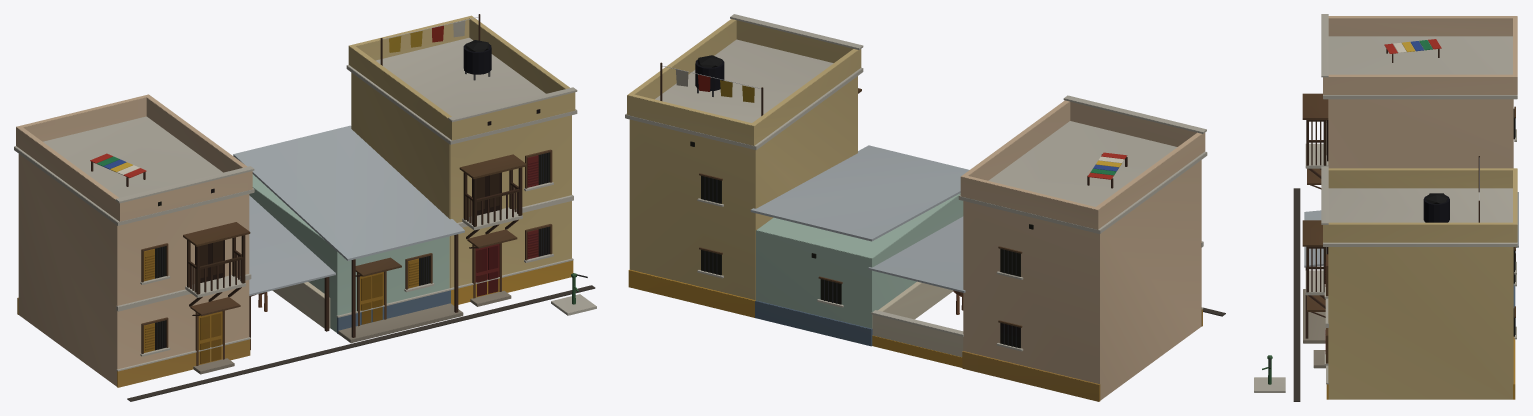
File: abadi_row_c.glb
3 views of the same model, side by side, from view 1: azimuth 30°, elevation 25°; view 2: azimuth 150°, elevation 25°; view 3: azimuth 270°, elevation 25° (orthographic). The views are drawn at different scales.
Parts seen in each view (by area): view 1: hb_main, hb_tin; view 2: hb_main, hb_tin; view 3: hb_main, hb_tin.
Part boxes in pixels (<box>): hb_main: <box>14,14,596,401</box>; hb_tin: <box>233,125,464,295</box>; hb_main: <box>625,14,1225,401</box>; hb_tin: <box>750,145,969,292</box>; hb_main: <box>1254,14,1517,401</box>; hb_tin: <box>1304,192,1518,267</box>.
Bounding box in the file's own units: 19 × 8.05 × 10.
